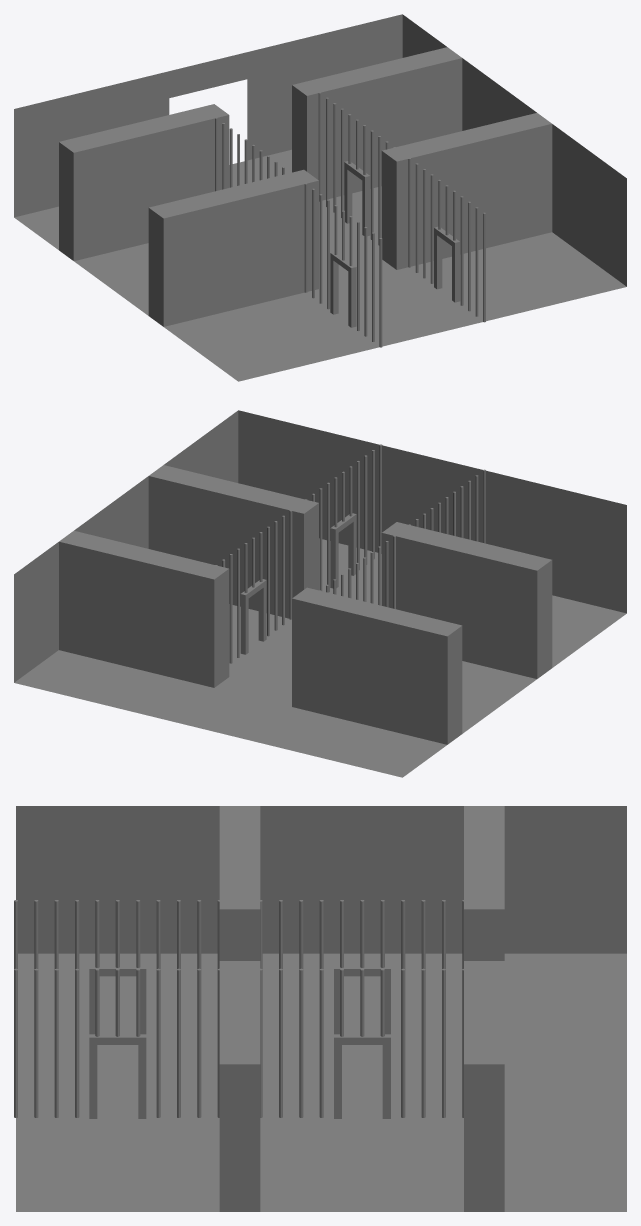
The model's file is dungeon_cell.gltf.
3 renders of one model, top to bottom at view 1: azimuth 30°, elevation 25°; view 2: azimuth 150°, elevation 25°; view 3: azimuth 270°, elevation 25°, orthographic. The views are drawn at different scales.
Visible parts, largest first — view 1: Cube, Bars1, Bars2, Bars4, Bars3; view 2: Cube, Bars4, Bars2, Bars3, Bars1; view 3: Cube, Bars2, Bars4, Bars1, Bars3.
Part boxes in pixels (x1,y1,x2,y2): Cube: (14,14,626,381); Bars1: (304,183,382,347); Bars2: (408,158,485,322); Bars4: (318,92,395,245); Bars3: (215,117,291,191); Cube: (14,410,626,777); Bars4: (215,510,292,663); Bars2: (305,444,381,592); Bars3: (319,535,395,609); Bars1: (409,469,485,543); Cube: (16,806,626,1211); Bars2: (14,968,221,1118); Bars4: (259,968,465,1118); Bars1: (14,900,221,1034); Bars3: (259,900,465,1034).
Size of the model in its own units: 15 by 4 by 15.05.
1 material, 1 textured.
